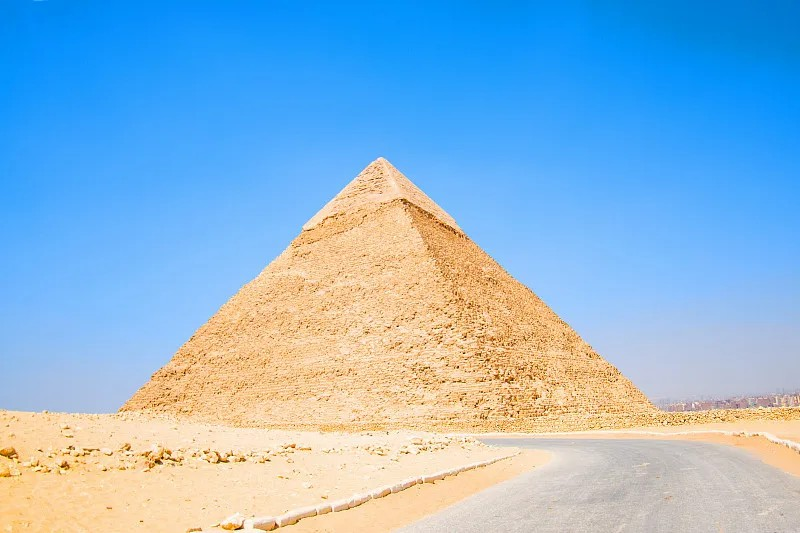Pyramid: (119, 157, 663, 414)
